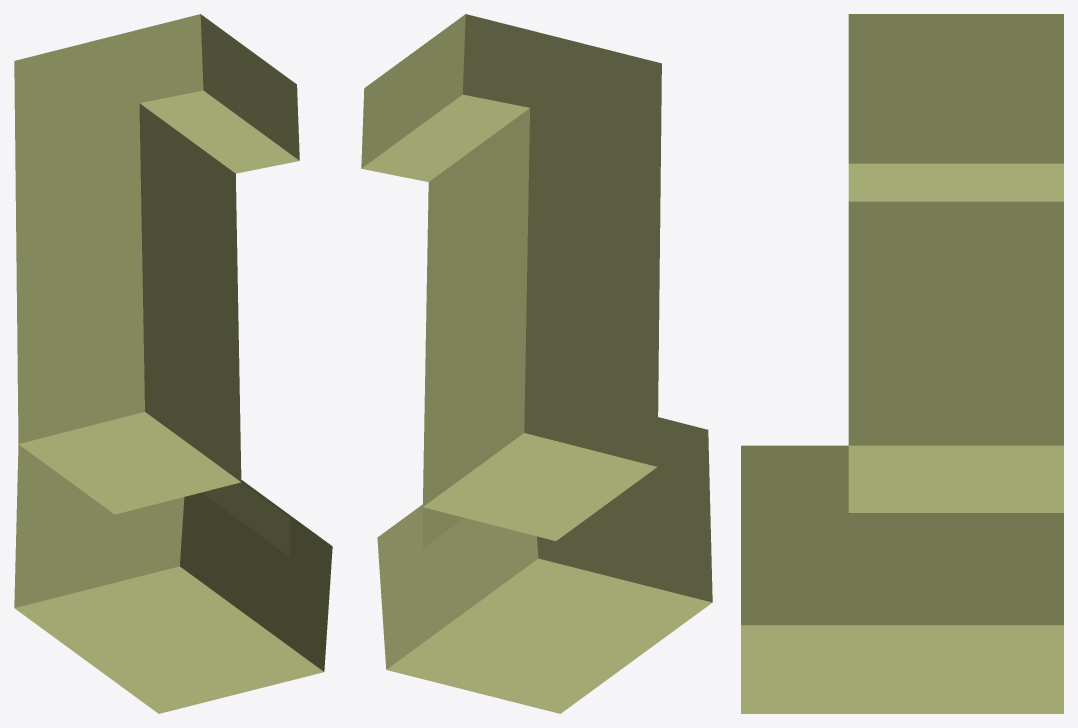
3 views of the same model, side by side, from view 1: azimuth 30°, elevation 25°; view 2: azimuth 150°, elevation 25°; view 3: azimuth 270°, elevation 25° (orthographic). The views are drawn at different scales.
Parts seen in each view (by area): view 1: 0_0_1_3_2_2_3_2_2_1; view 2: 0_0_1_3_2_2_3_2_2_1; view 3: 0_0_1_3_2_2_3_2_2_1.
Boxes of the visible parts, left/top/right/bottom form: 0_0_1_3_2_2_3_2_2_1: left=14, top=14, right=332, bottom=713; 0_0_1_3_2_2_3_2_2_1: left=361, top=14, right=712, bottom=713; 0_0_1_3_2_2_3_2_2_1: left=741, top=14, right=1063, bottom=713.
Size of the model in its own units: 6.8 by 18.85 by 9.
